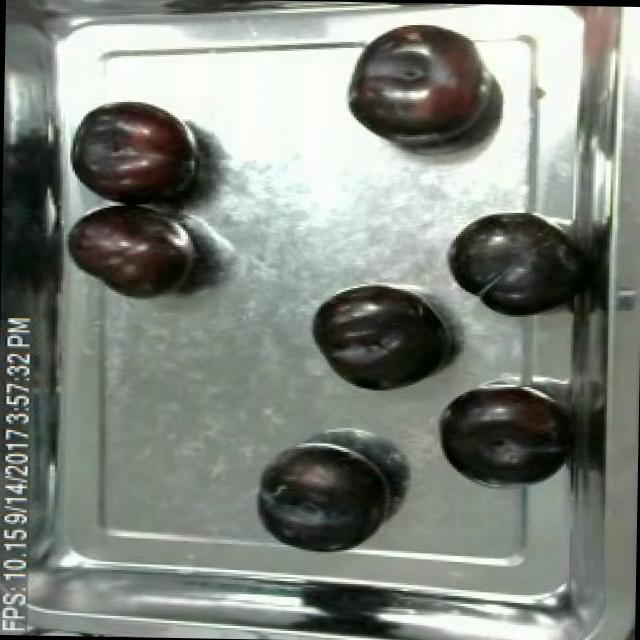Fruit: (338, 20, 508, 152), (439, 200, 583, 324), (301, 284, 457, 394), (428, 374, 570, 490), (251, 443, 395, 557), (64, 96, 208, 208), (62, 200, 200, 304)
